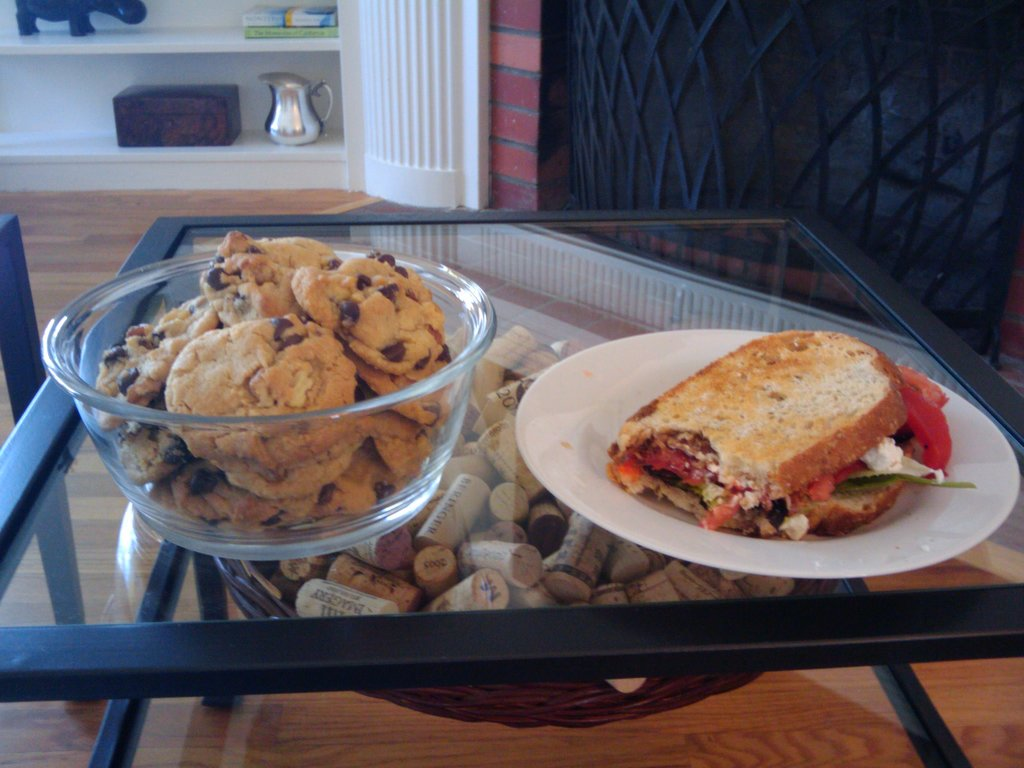sandwich: (604, 328, 952, 543)
